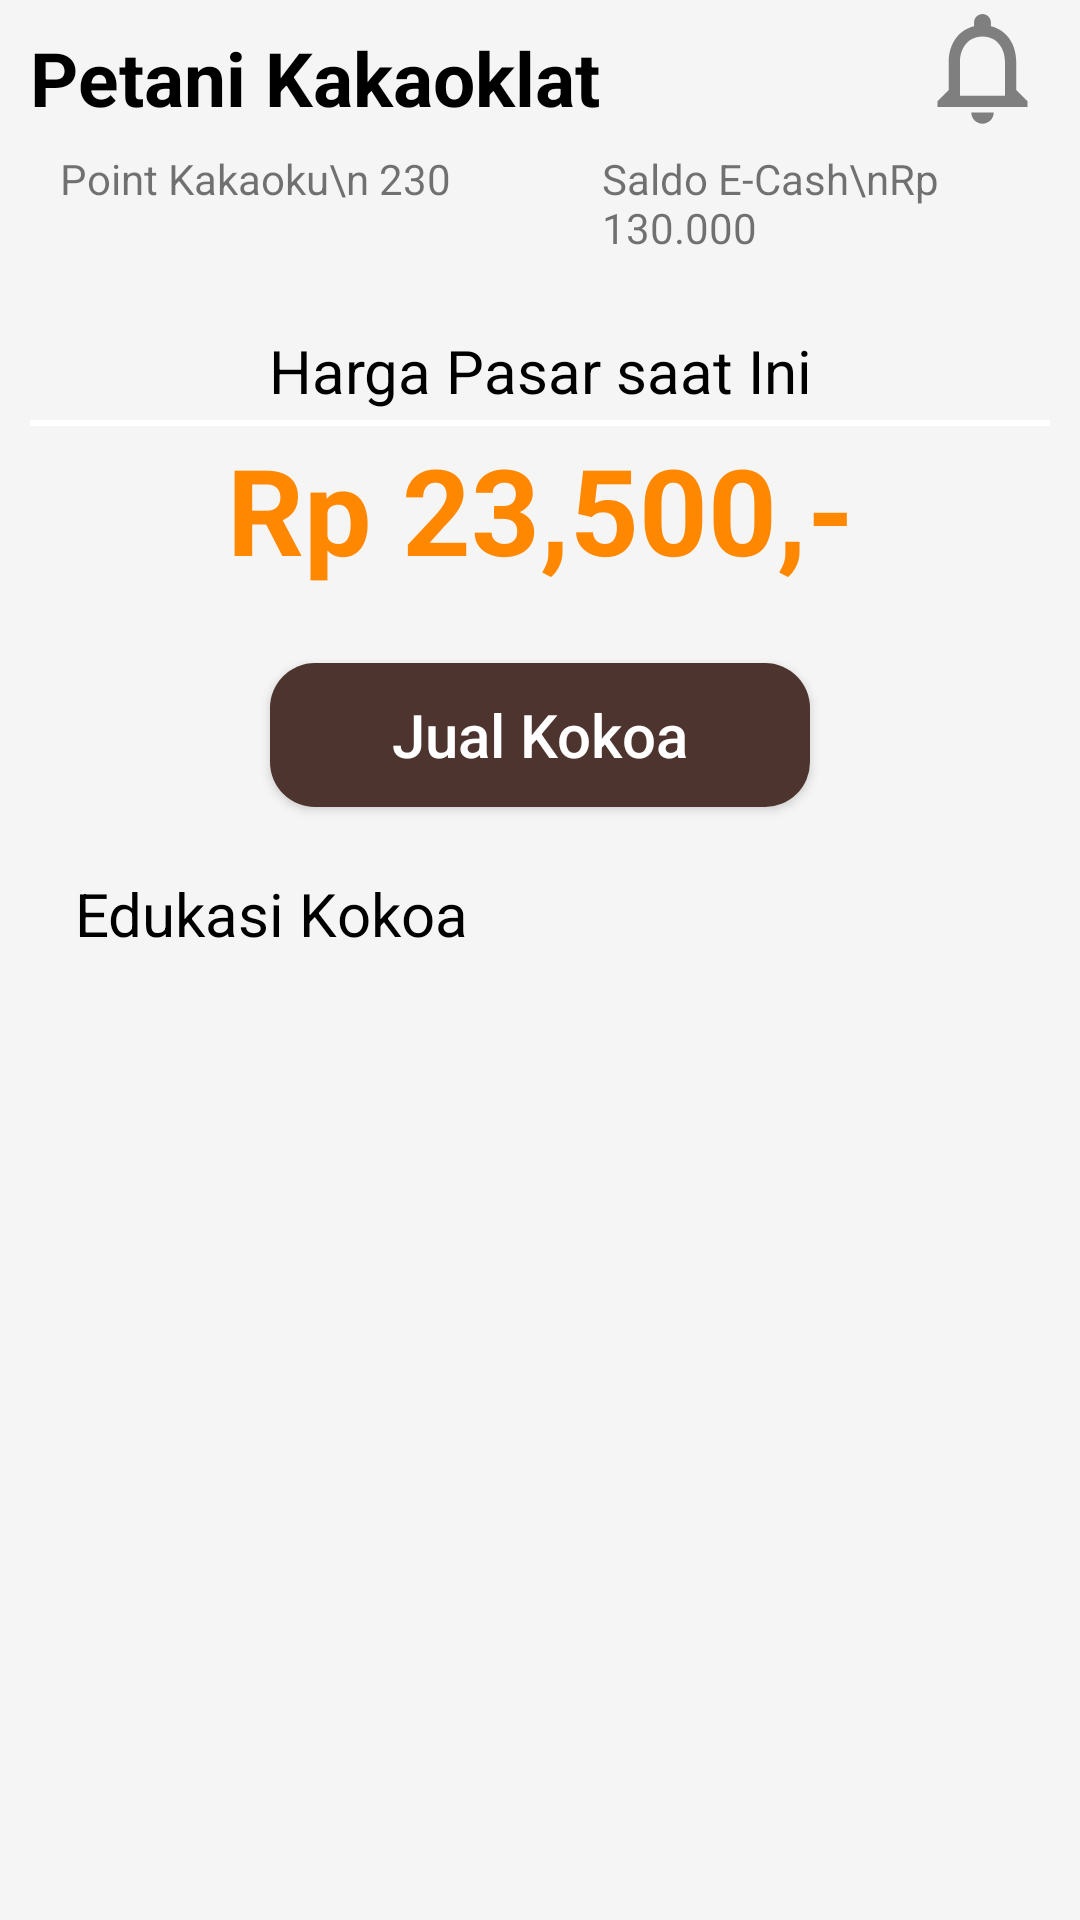

Named icons in this screenshot (1080*1920) and their centers, [x,y]:
notifications none: [982,69]
